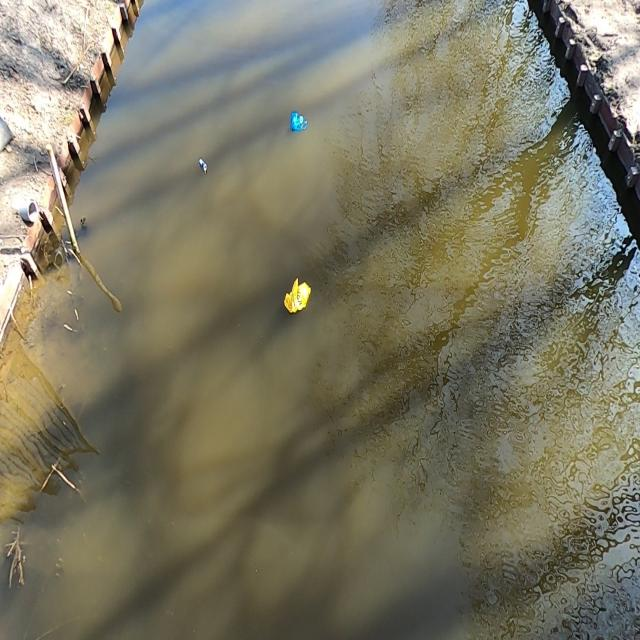Autre plastique: (286, 272, 312, 324)
Non plastique: (198, 158, 209, 172)
